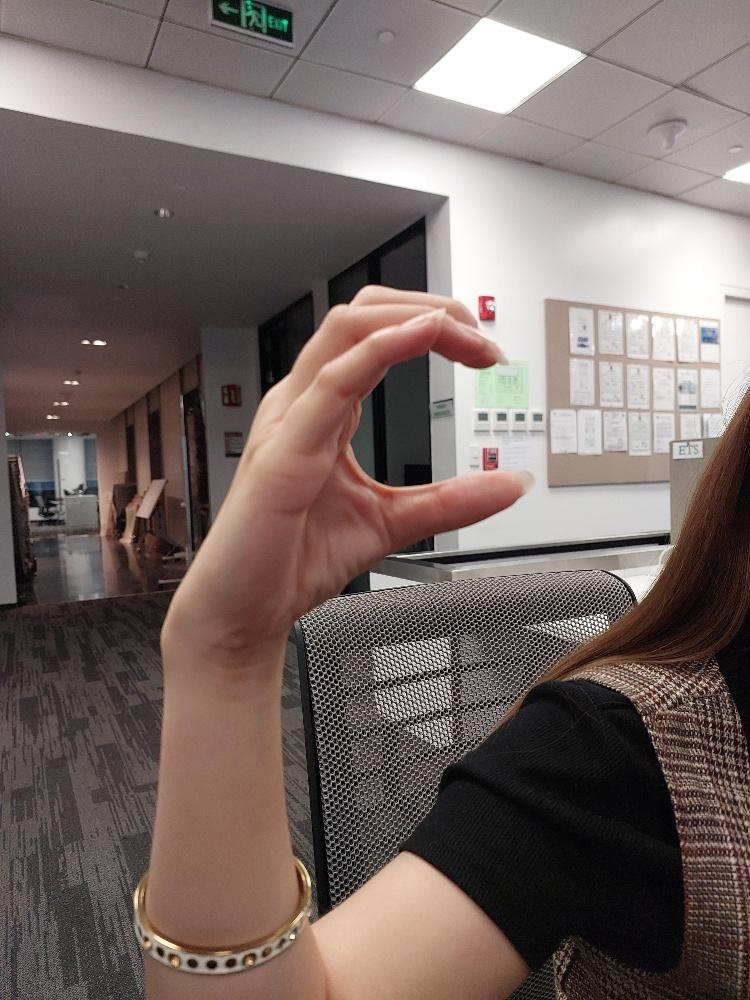c: (156, 279, 540, 656)
